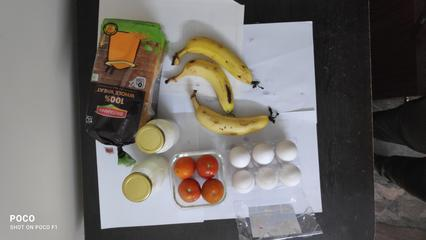banana: (173, 40, 261, 103), (191, 91, 299, 138)
bread: (87, 11, 146, 150)
eggs: (233, 144, 304, 193)
milk: (121, 157, 160, 206), (136, 113, 181, 153)
tomato: (168, 154, 225, 208)
